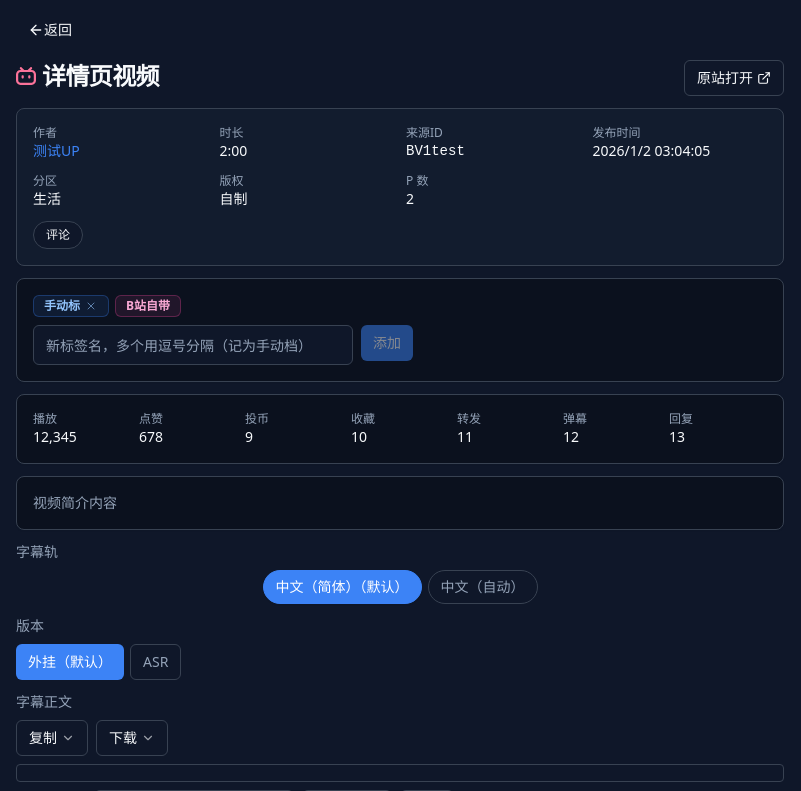
Test case: 添加标签：失败 → 错误 toast，输入保留
The image size is (801, 791).
Expected: the text "详情页视频" is shown, [42,60,159,92]
Type "x" into the field with placeholder "新标签名，多个用逗号分隔（记为手动档）" at (193, 345), box [33,325,353,365]
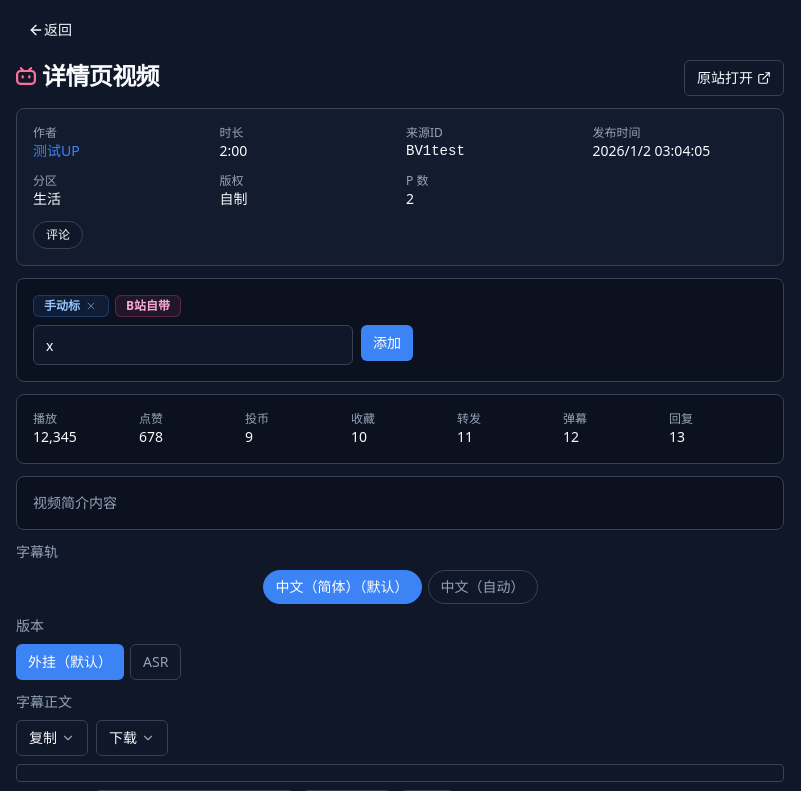
Press Enter in the field with placeholder "新标签名，多个用逗号分隔（记为手动档）", box [33,325,353,365]
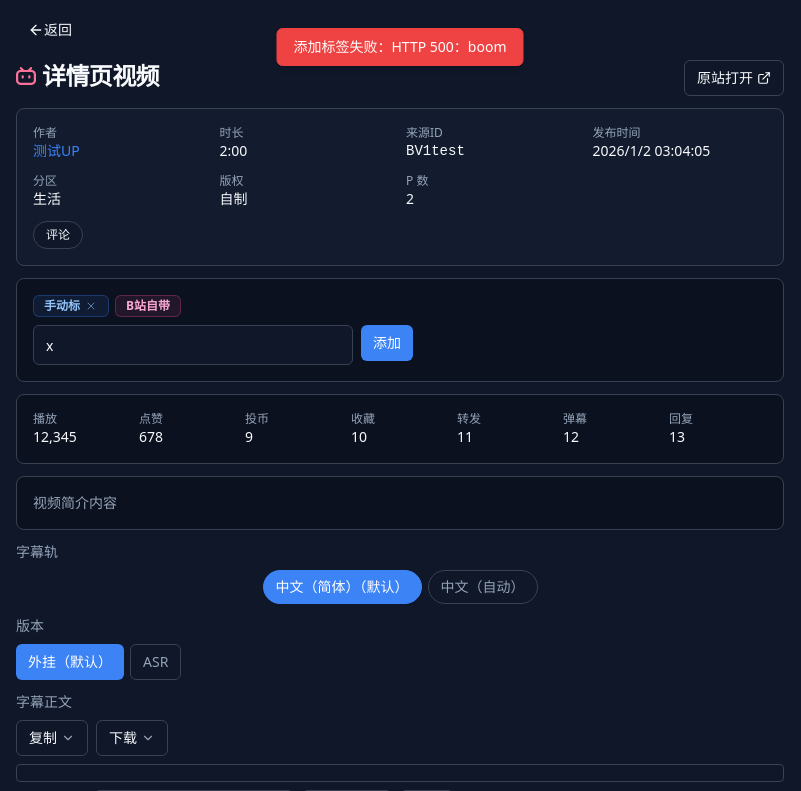
Expected: the text "添加标签失败：HTTP 500：boom" is shown, [276,28,524,66]
